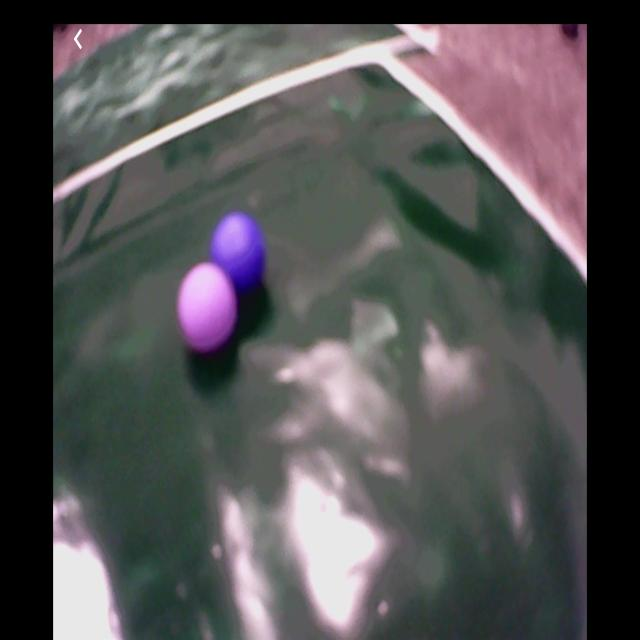ball: (178, 264, 238, 354), (210, 215, 267, 298)
